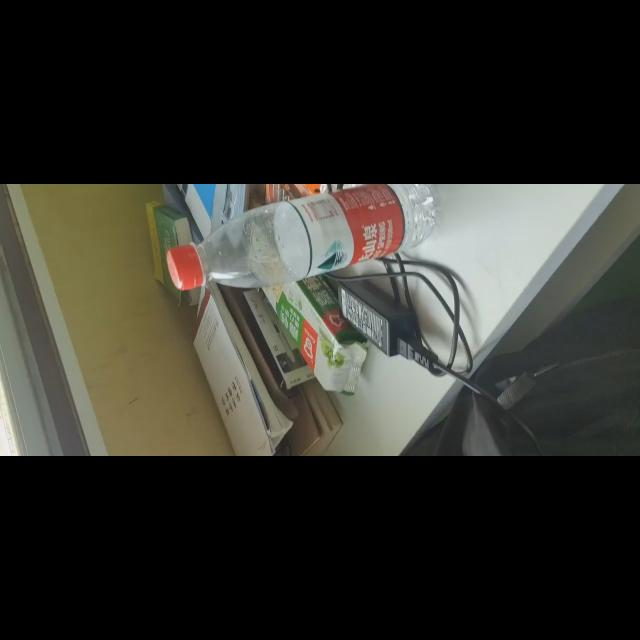trash: (167, 184, 437, 288)
